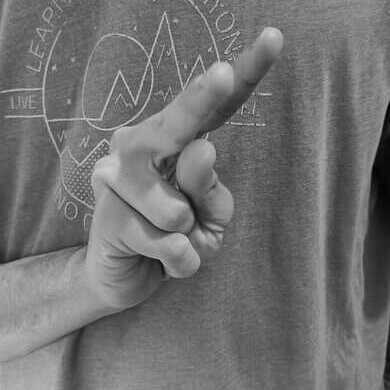K: (85, 24, 285, 311)
